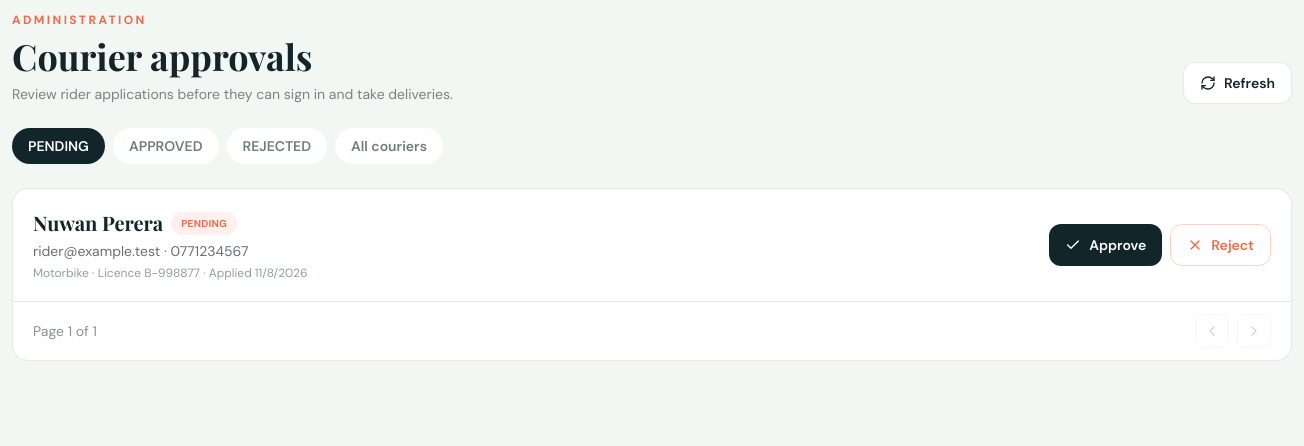
it: CourierApprovalsPage › approves a courier and displays the successful status notice
The width and height of the screenshot is (1304, 446).
Expected: the heading "Nuwan Perera" is shown, [33, 209, 163, 237]
What coordinates should you click on to do the following:
click the button "All couriers"
I would click on:
 (389, 146)
Its box is [335, 128, 443, 164].
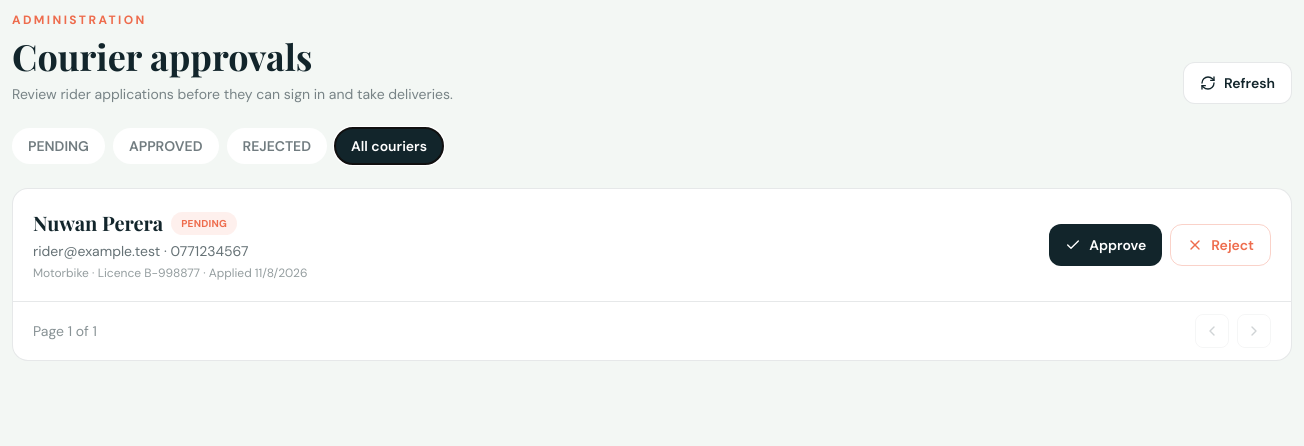
What coordinates should you click on to do the following:
click the button "Approve"
I would click on:
 (1106, 245)
Its box is [1049, 224, 1162, 266].
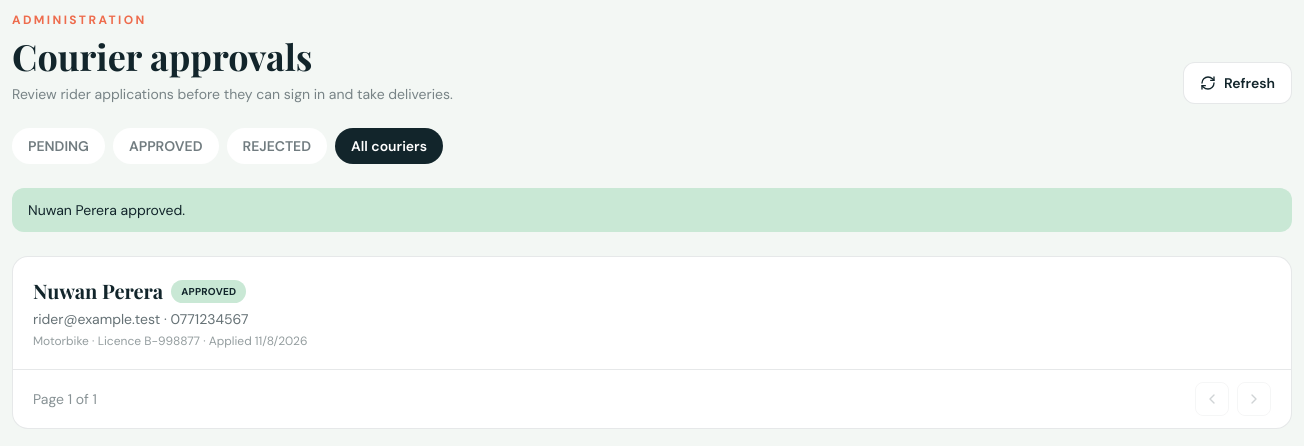
Result: the message reads "Nuwan Perera approved." at [28, 201, 185, 219]
Result: the text "APPROVED" is shown at [171, 280, 246, 302]
